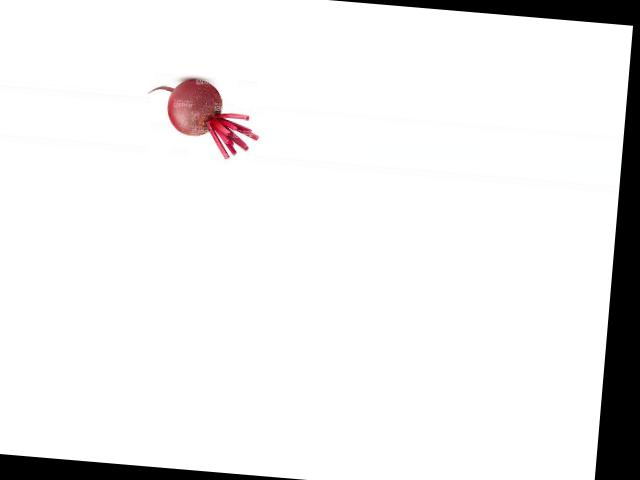beet: (143, 75, 263, 161)
